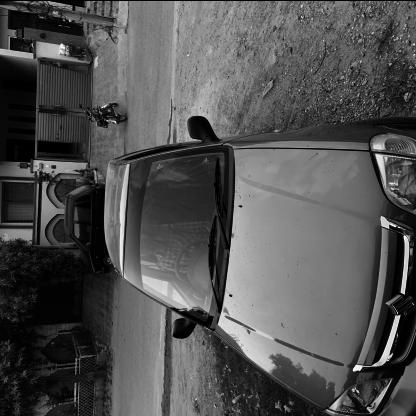no_seatbelt: (137, 236, 199, 270)
